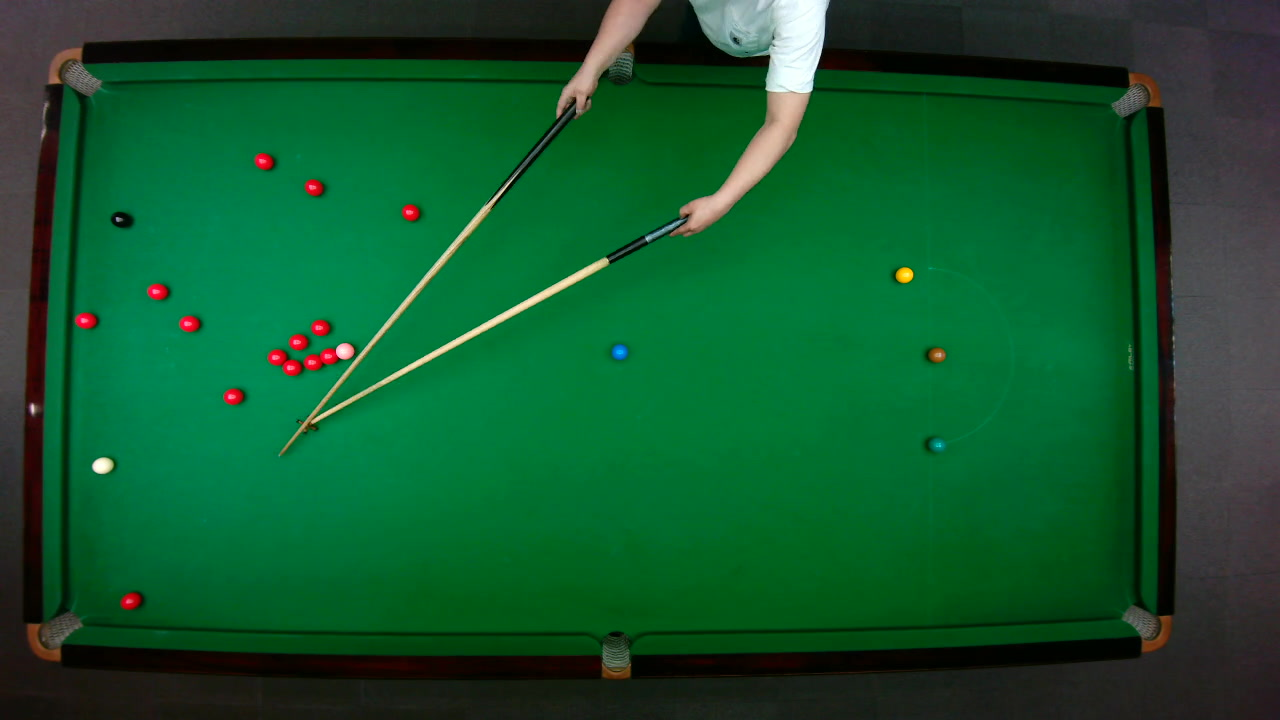bag: (24, 609, 84, 661), (46, 46, 102, 96), (1119, 603, 1172, 652), (1108, 71, 1161, 118), (600, 629, 630, 680), (609, 47, 634, 84)
black: (109, 210, 131, 228)
blue: (610, 343, 628, 360)
brown: (926, 346, 946, 362)
cue: (270, 97, 578, 458)
green: (926, 435, 946, 453)
pink: (333, 341, 354, 360)
red: (118, 590, 142, 610), (73, 310, 97, 329), (145, 281, 169, 300), (221, 386, 244, 405), (177, 314, 200, 332), (303, 177, 324, 196), (253, 151, 274, 170), (318, 346, 338, 365), (266, 348, 287, 366), (287, 332, 308, 350), (281, 358, 302, 376), (309, 318, 330, 336), (302, 353, 324, 370), (400, 203, 420, 221)
white: (90, 455, 115, 474)
yellow: (893, 265, 914, 283)
zone: (926, 265, 1013, 445)
